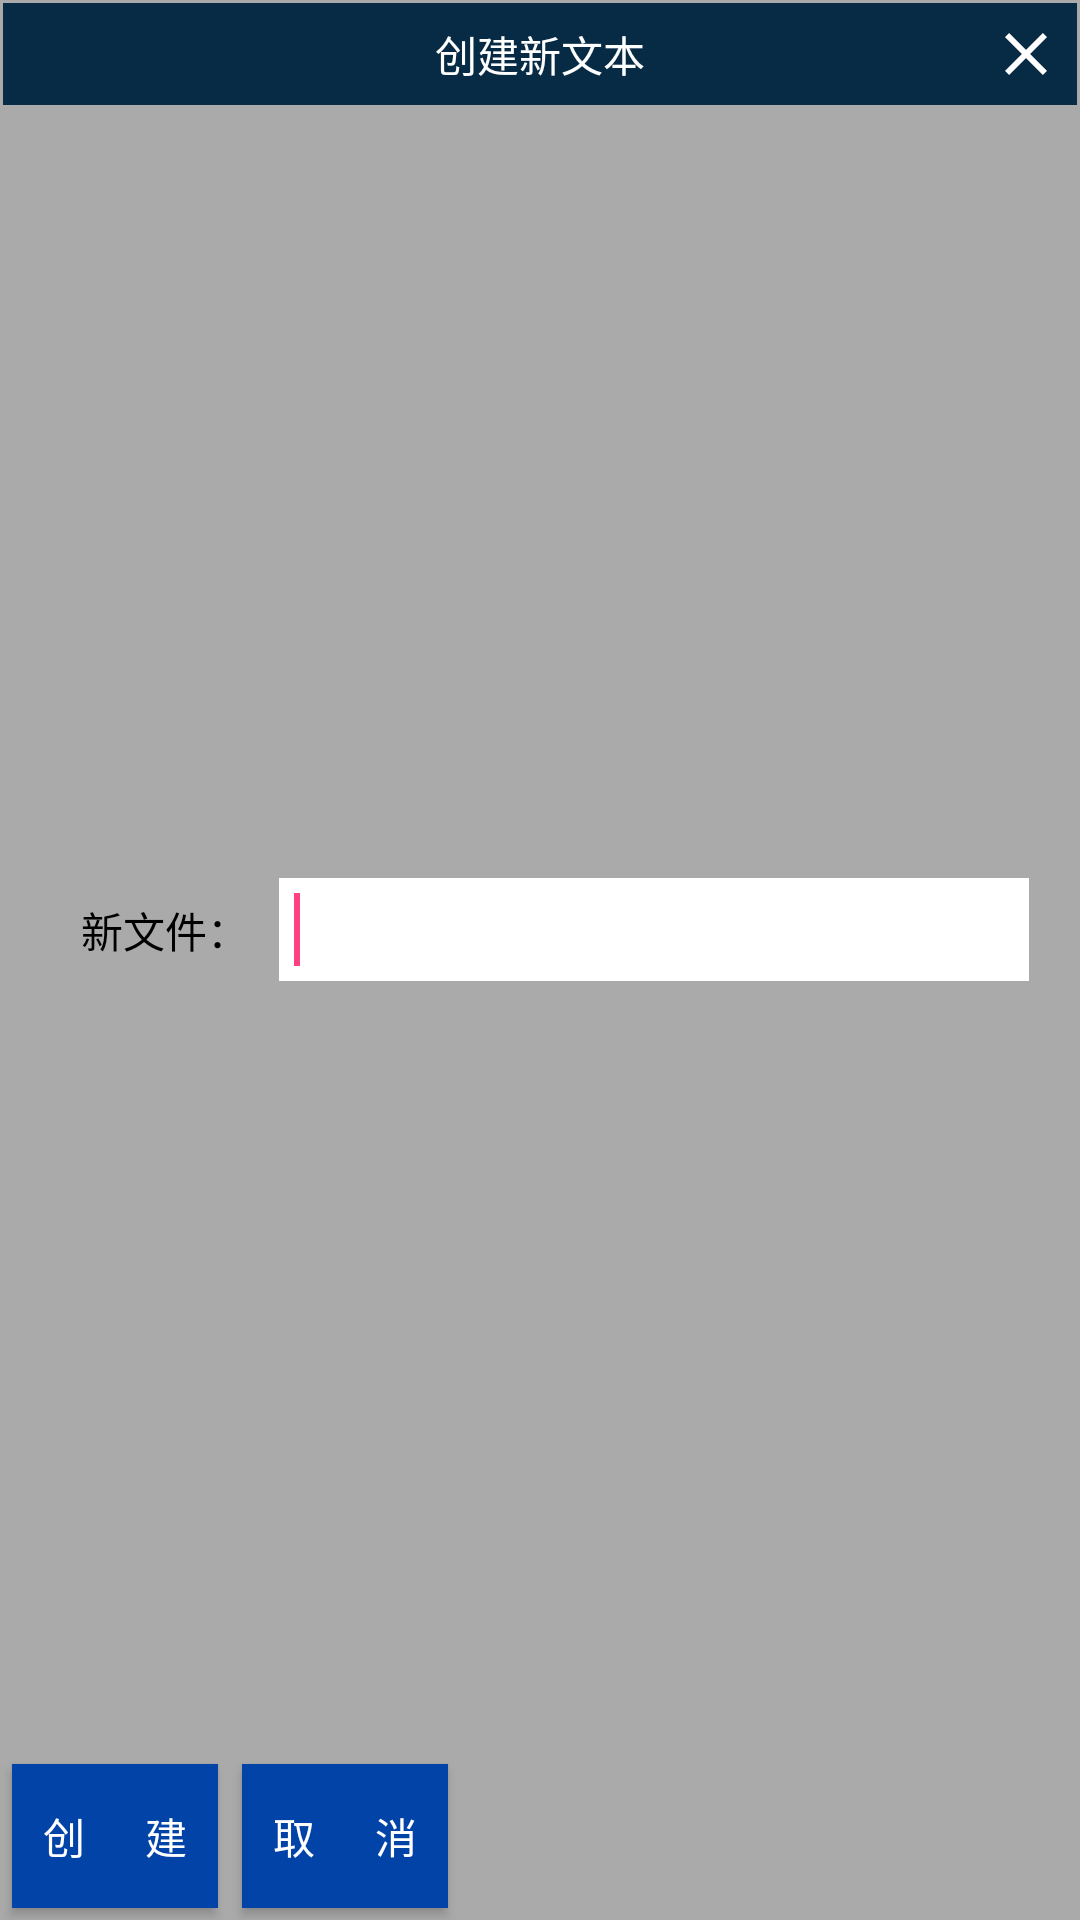

Screen size 1080px x 1920px. Icon name, then its center in pixels as (x,y):
close: (1026,54)
